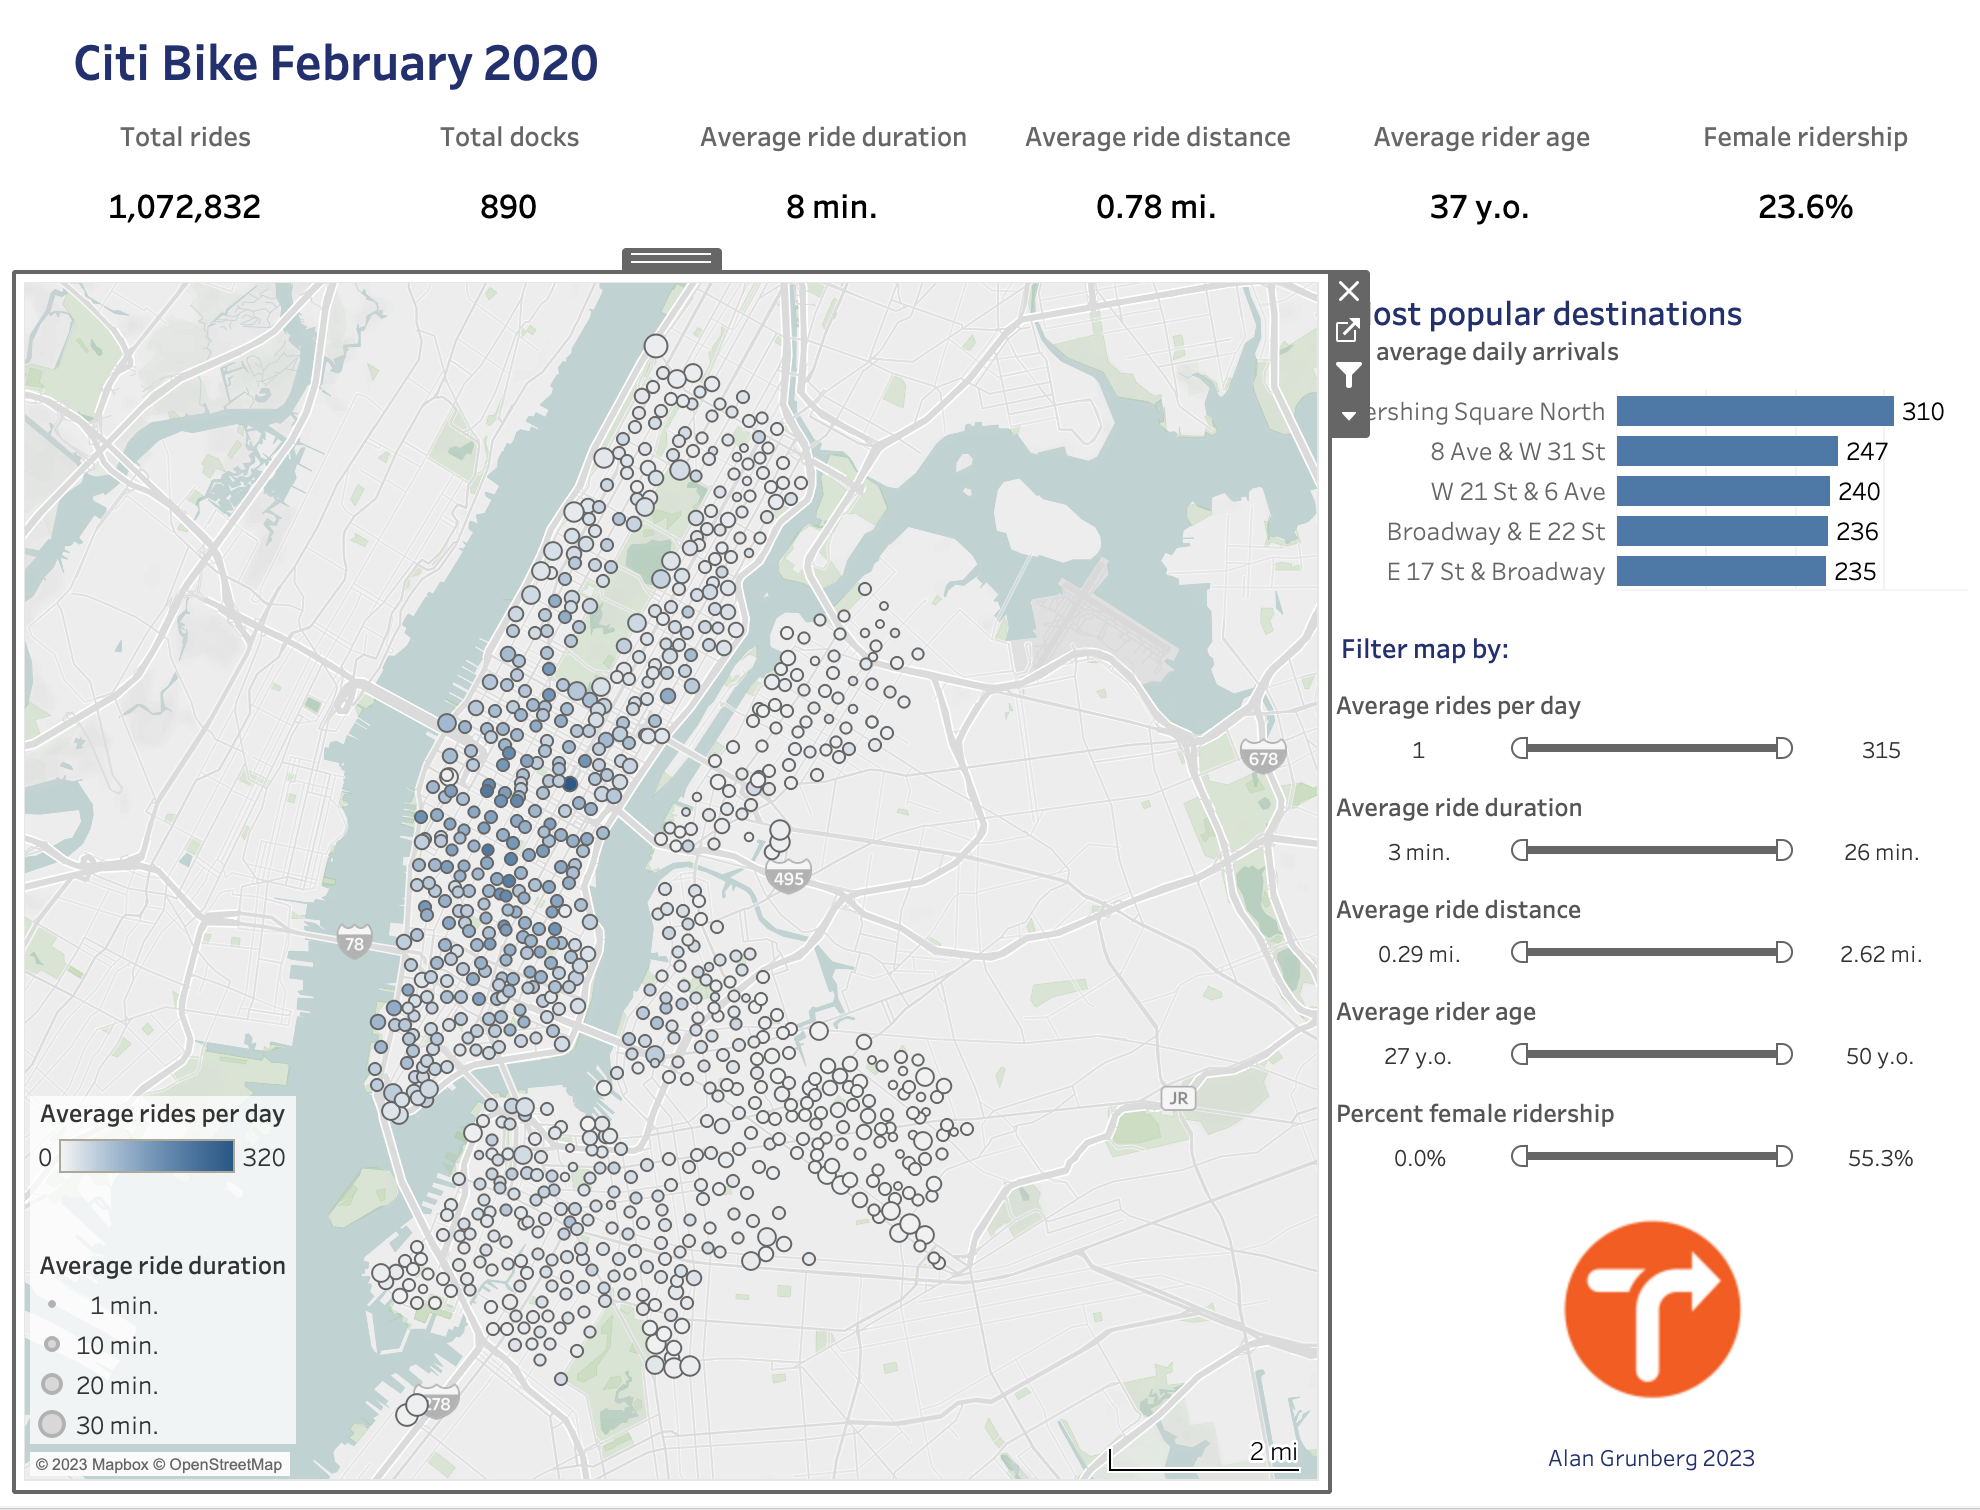

Layout of this report page (visuals, bound fields, positions):
{"tool":"tableau","page":{"name":"Dashboard","canvas":[1000,1000],"units":"permille","ordinal":0},"visuals":[{"type":"worksheet","title":"Topline","mark":"Automatic","box":[8,10.6,983.9,173.5]},{"type":"worksheet","title":"Map","mark":"Automatic","rows":["start station latitude"],"cols":["start station longitude"],"box":[8,184.1,658.5,805.3]},{"type":"worksheet","title":"Top 5","mark":"Automatic","rows":["end station name"],"cols":["Calculation_3350678186082742273"],"box":[666.5,184.1,325.4,226.5]},{"type":"text","box":[666.5,410.6,325.4,42.4]},{"type":"filter","title":"Map","param":"[federated.0wb9tpf06ie6xo15qbpfl0k894kp].[usr:Calculation_3350678186082742273:qk","box":[666.5,452.9,325.4,67.5]},{"type":"filter","title":"Map","param":"[federated.0wb9tpf06ie6xo15qbpfl0k894kp].[med:tripduration:qk]","box":[666.5,520.5,325.4,67.5]},{"type":"filter","title":"Map","param":"[federated.0wb9tpf06ie6xo15qbpfl0k894kp].[med:distance:qk]","box":[666.5,588,325.4,67.5]},{"type":"filter","title":"Map","param":"[federated.0wb9tpf06ie6xo15qbpfl0k894kp].[usr:Calculation_3350678186079543296:qk","box":[666.5,655.6,325.4,67.5]},{"type":"filter","title":"Map","param":"[federated.0wb9tpf06ie6xo15qbpfl0k894kp].[usr:Calculation_3350678186094219266:qk","box":[666.5,723.1,325.4,64.9]},{"type":"legend","title":"Map","param":"[federated.0wb9tpf06ie6xo15qbpfl0k894kp].[usr:Calculation_3350678186082742273:qk","box":[15.4,728.5,133.7,100.7]},{"type":"image","param":"/Users/MacBookPro/Desktop/Looking For Data Work/Transportation Alternatives/exam","box":[666.5,788,325.4,159]},{"type":"legend","title":"Map","param":"[federated.0wb9tpf06ie6xo15qbpfl0k894kp].[med:tripduration:qk]","box":[15.4,829.1,133.7,129.8]},{"type":"text","box":[666.5,947,325.4,42.4]}]}

Visuals, with their boxes on the dashboard's canvas, which has no fixed pixel size, in thousandths of its width and height (x1, y1, x2, y2). These are canvas units, not pixel positions in the 1980x1510 screenshot, which may show the page scaled, cropped or inside an application window:
"Topline" worksheet: 8 11 992 184
"Map" worksheet: 8 184 666 989
"Top 5" worksheet: 666 184 992 411
text: 666 411 992 453
"Map" filter: 666 453 992 520
"Map" filter: 666 520 992 588
"Map" filter: 666 588 992 656
"Map" filter: 666 656 992 723
"Map" filter: 666 723 992 788
"Map" legend: 15 728 149 829
image: 666 788 992 947
"Map" legend: 15 829 149 959
text: 666 947 992 989
